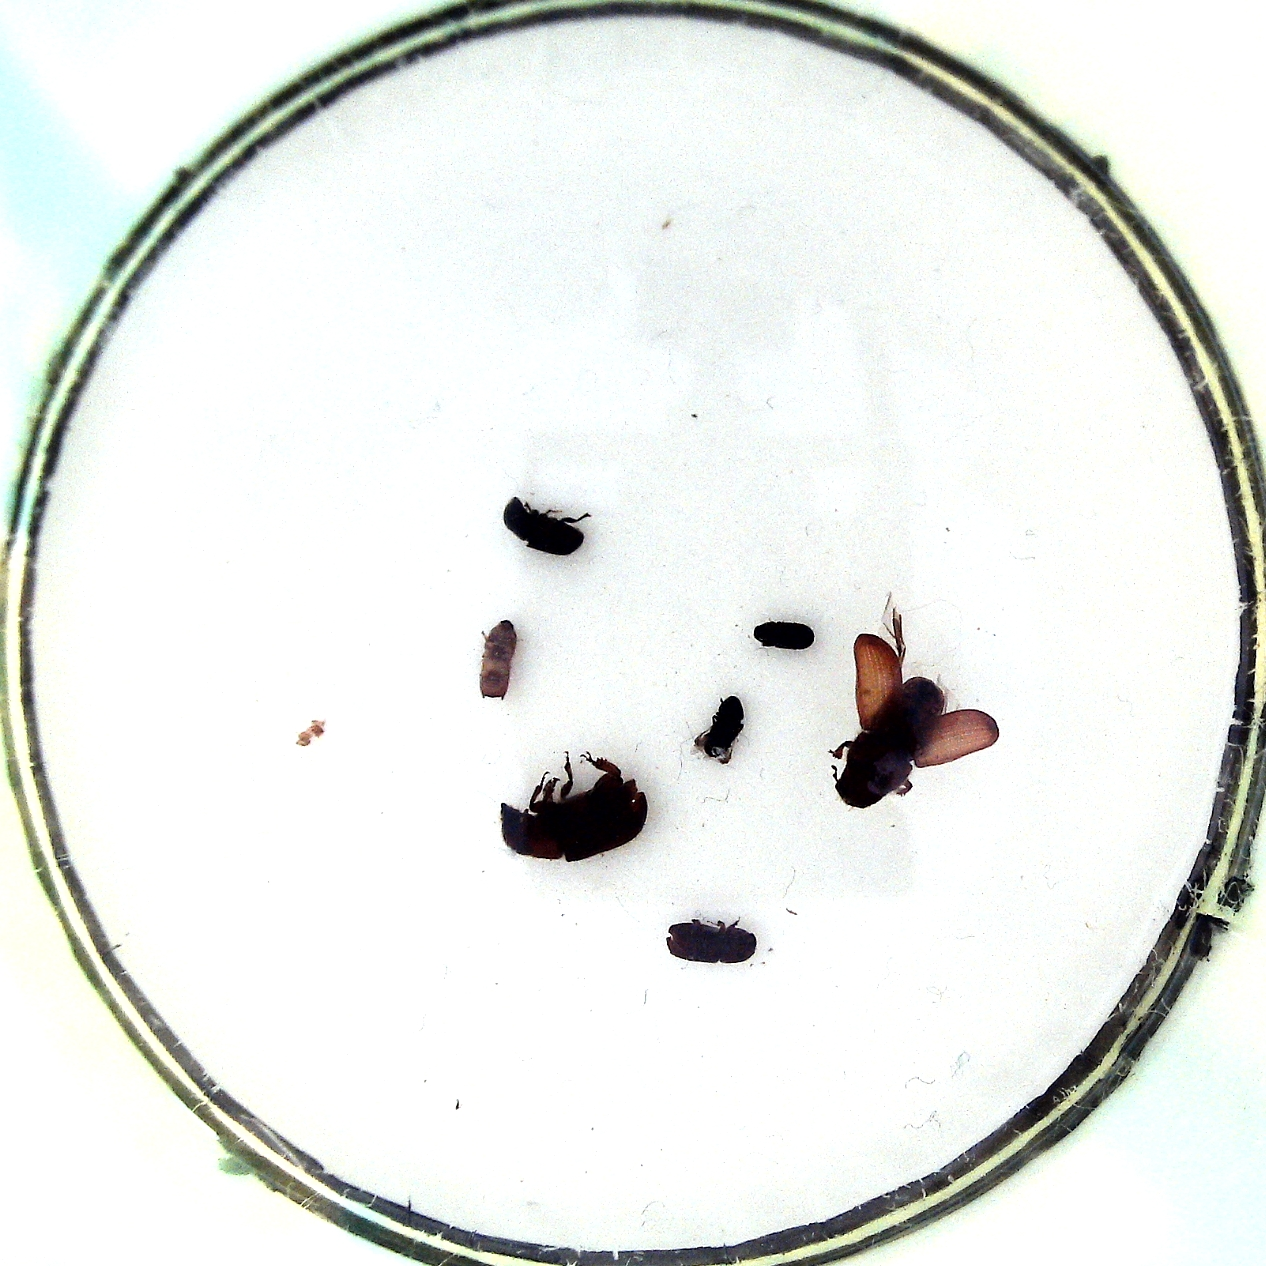Leconte: (827, 595, 1006, 814), (494, 747, 650, 864)
Linnaeus: (663, 914, 761, 970)
acuminatus: (476, 613, 517, 710)
armandi: (499, 496, 590, 560)
coleoptera: (683, 696, 752, 767), (750, 616, 816, 660)
